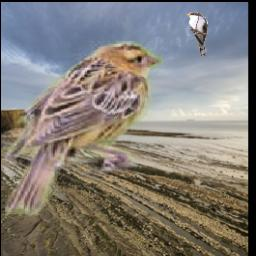Cuckoo: (185, 12, 209, 57)
Sparrow: (5, 42, 163, 218)
